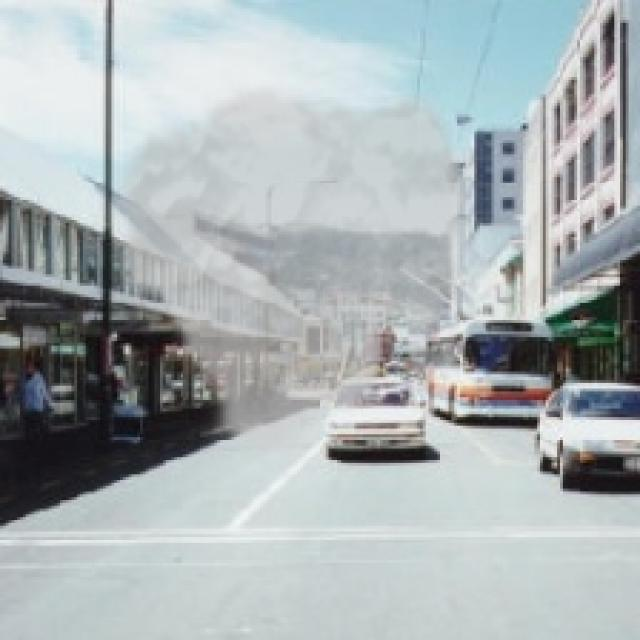smoke: (103, 80, 477, 466)
